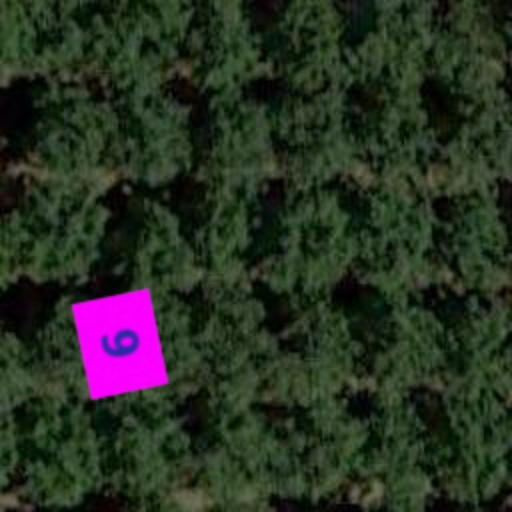rectangle: (62, 286, 178, 402)
